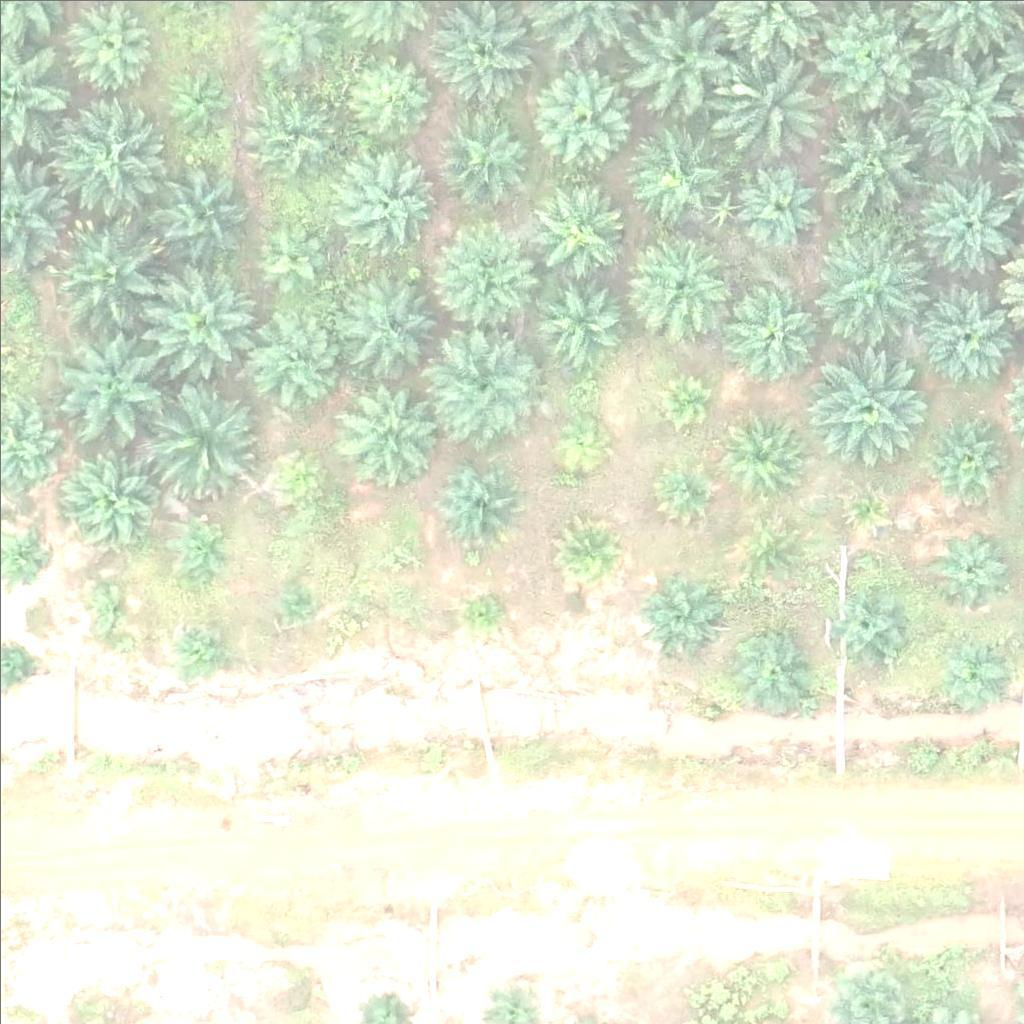Kelapa_Sawit: (809, 353, 922, 467), (59, 326, 172, 439), (46, 93, 159, 206), (150, 386, 263, 499), (145, 254, 258, 367), (430, 330, 542, 444), (49, 209, 161, 322), (810, 220, 922, 333), (152, 159, 252, 260), (335, 375, 435, 476), (434, 1, 534, 102), (437, 218, 537, 319), (531, 69, 631, 170), (722, 49, 822, 150), (914, 285, 1014, 386), (56, 447, 156, 547), (243, 81, 343, 181), (241, 306, 341, 406), (334, 269, 434, 369), (341, 149, 441, 249), (530, 181, 630, 281), (629, 124, 729, 224), (633, 232, 733, 332), (722, 284, 822, 384), (825, 116, 925, 216), (918, 171, 1018, 271), (434, 459, 522, 547), (441, 112, 529, 200), (536, 278, 624, 366), (828, 582, 916, 670), (733, 159, 821, 247), (922, 415, 1010, 503), (345, 50, 432, 138), (728, 626, 815, 714), (719, 411, 806, 499), (644, 570, 719, 646), (935, 528, 1010, 604), (254, 224, 329, 299), (945, 644, 1008, 707), (166, 70, 229, 133), (556, 523, 619, 586), (734, 517, 796, 580), (559, 416, 609, 467), (84, 581, 134, 631), (176, 627, 226, 677), (181, 524, 231, 574), (657, 374, 707, 424), (662, 466, 712, 516), (279, 578, 317, 616), (466, 594, 503, 632), (290, 460, 327, 497), (851, 494, 888, 531), (389, 543, 414, 569)
